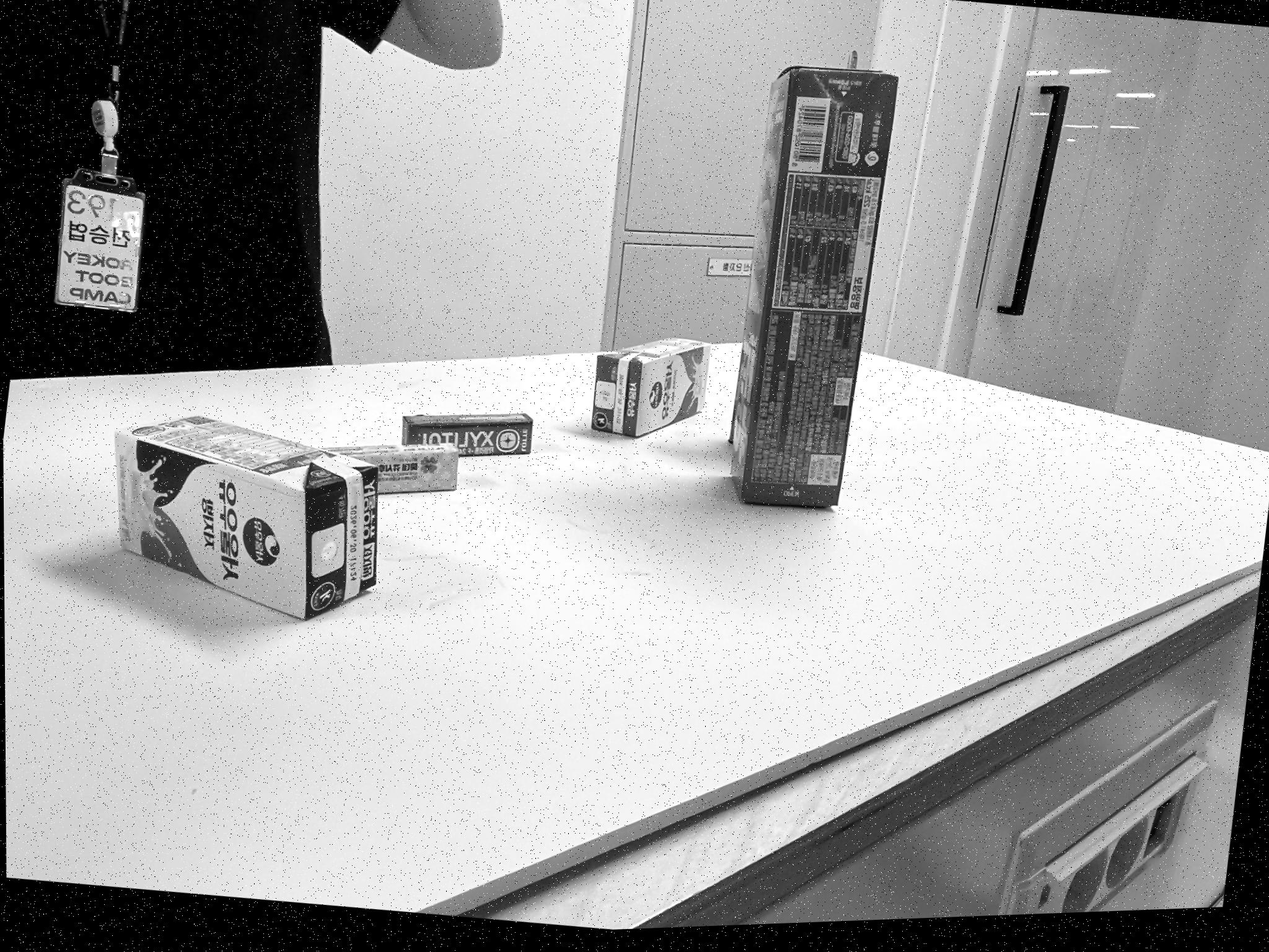cracker_vege: (731, 67, 898, 506)
gum_green: (402, 413, 533, 456)
gum_yellow: (330, 442, 459, 494)
milk_blue: (115, 416, 379, 618)
milk_green: (591, 338, 711, 436)
